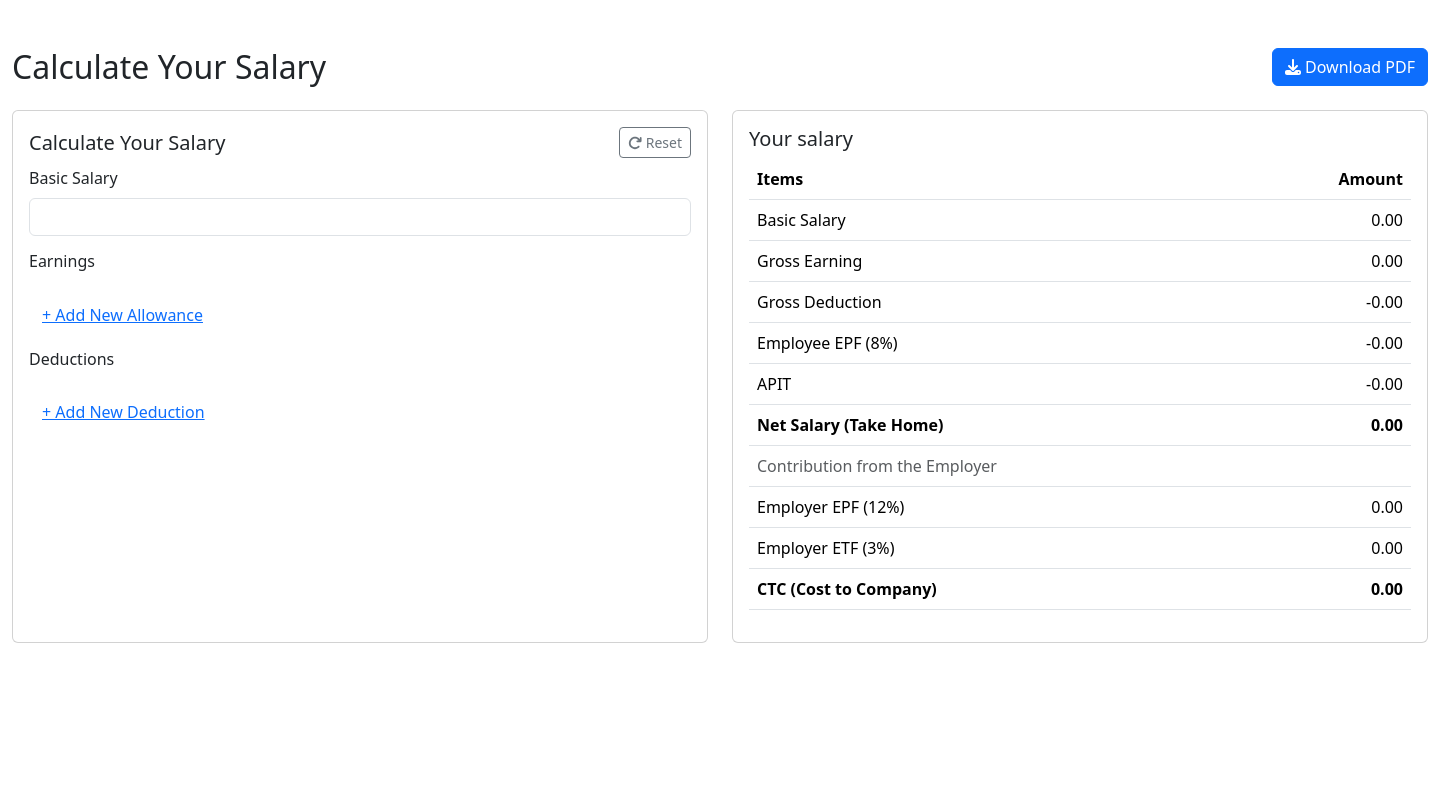
App › resets the calculator
Type "50000" into the number field labelled "Basic Salary" at {"x": 360, "y": 217}, box [29,198,691,236]
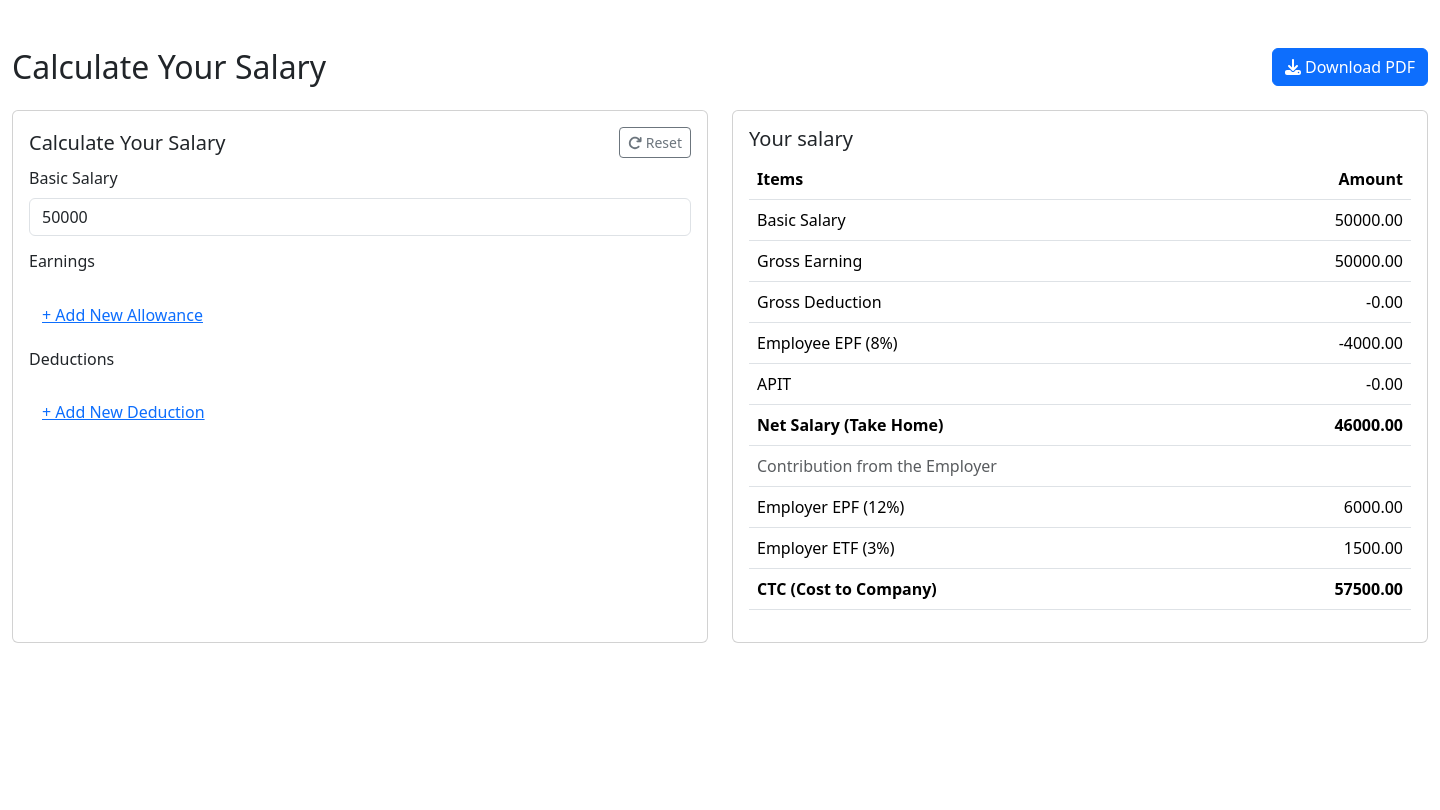
Click the button "Reset" at {"x": 655, "y": 143}, box [619,127,691,158]
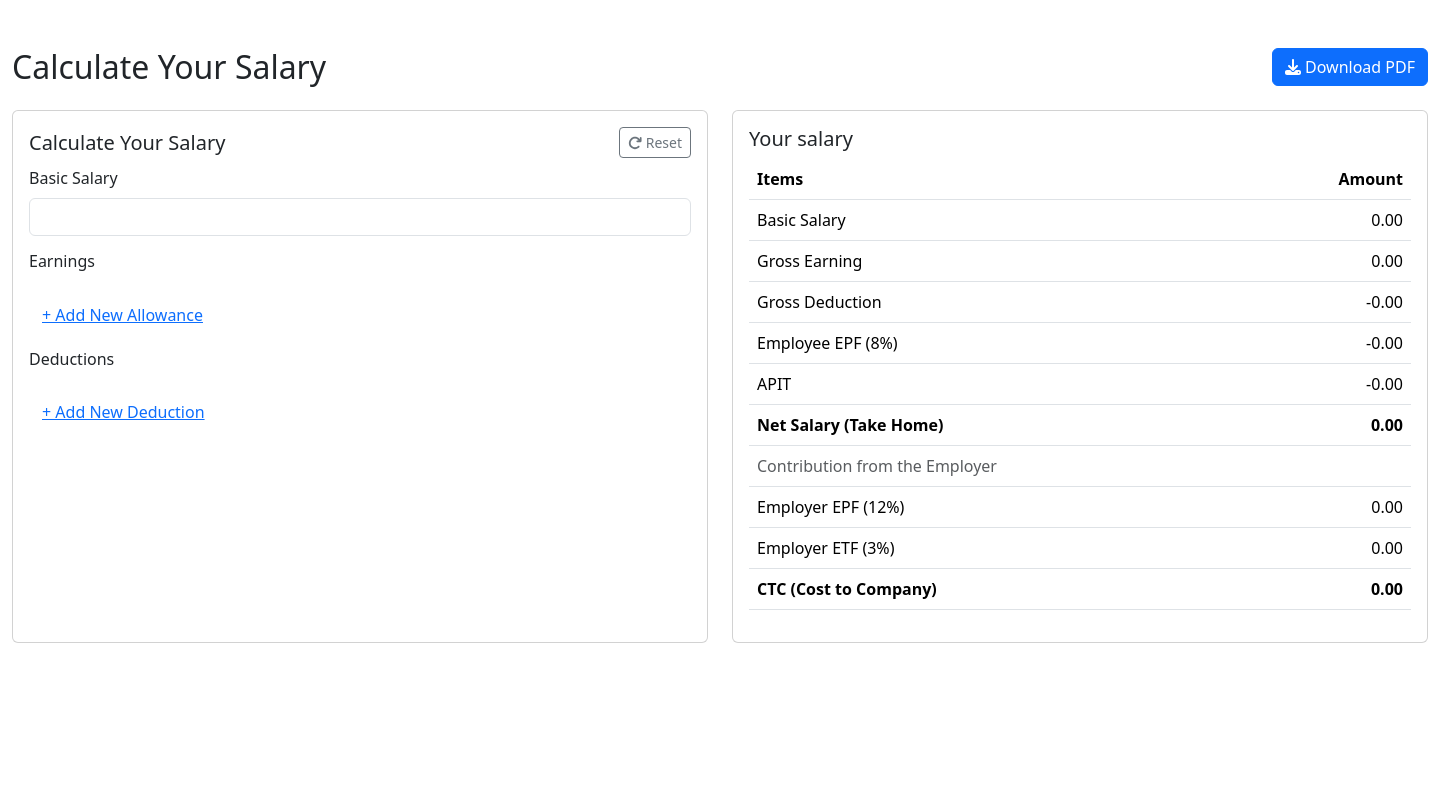
Expected: the number field labelled "Basic Salary" is empty, [29,198,691,236]
